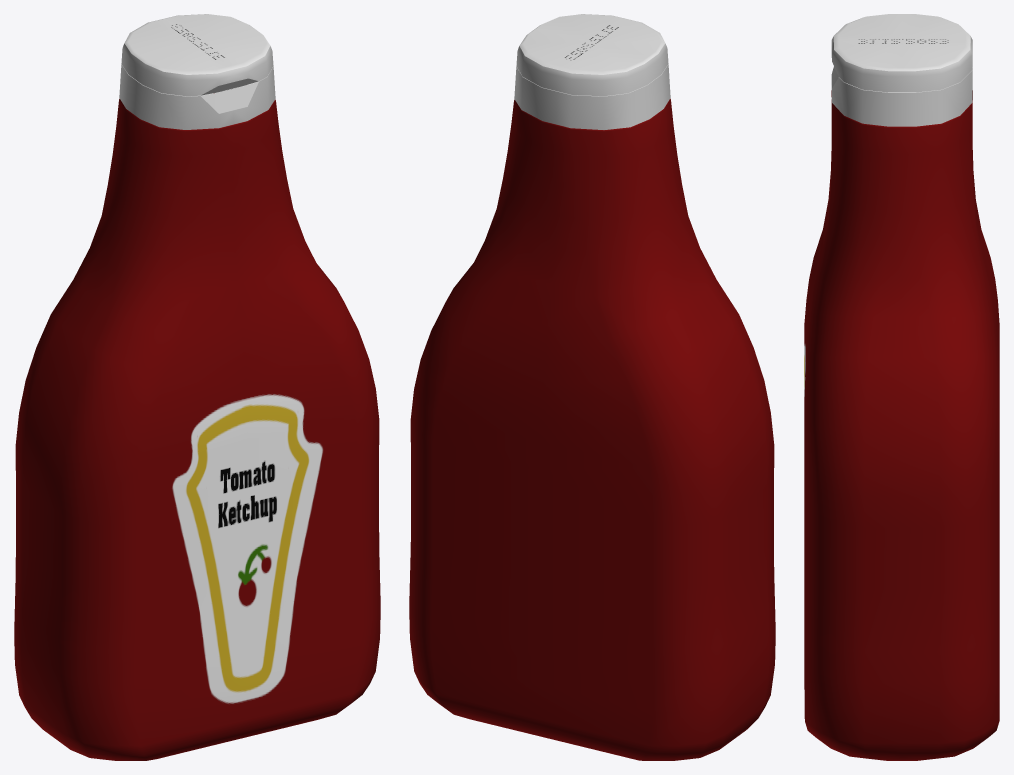
File: Topping Bottle.fbx
3 views of the same model, side by side, from view 1: azimuth 30°, elevation 25°; view 2: azimuth 150°, elevation 25°; view 3: azimuth 270°, elevation 25° (orthographic).
Visible parts, largest first — view 1: Topping_Bottle; view 2: Topping_Bottle; view 3: Topping_Bottle.
Part boxes in pixels (x1=…): Topping_Bottle: x1=14, y1=14, x2=380, y2=760; Topping_Bottle: x1=409, y1=14, x2=775, y2=760; Topping_Bottle: x1=804, y1=14, x2=999, y2=760.
Bounding box in the file's own units: 1.06 × 2.16 × 0.5779.
Materials: 1 (1 with a texture image).
